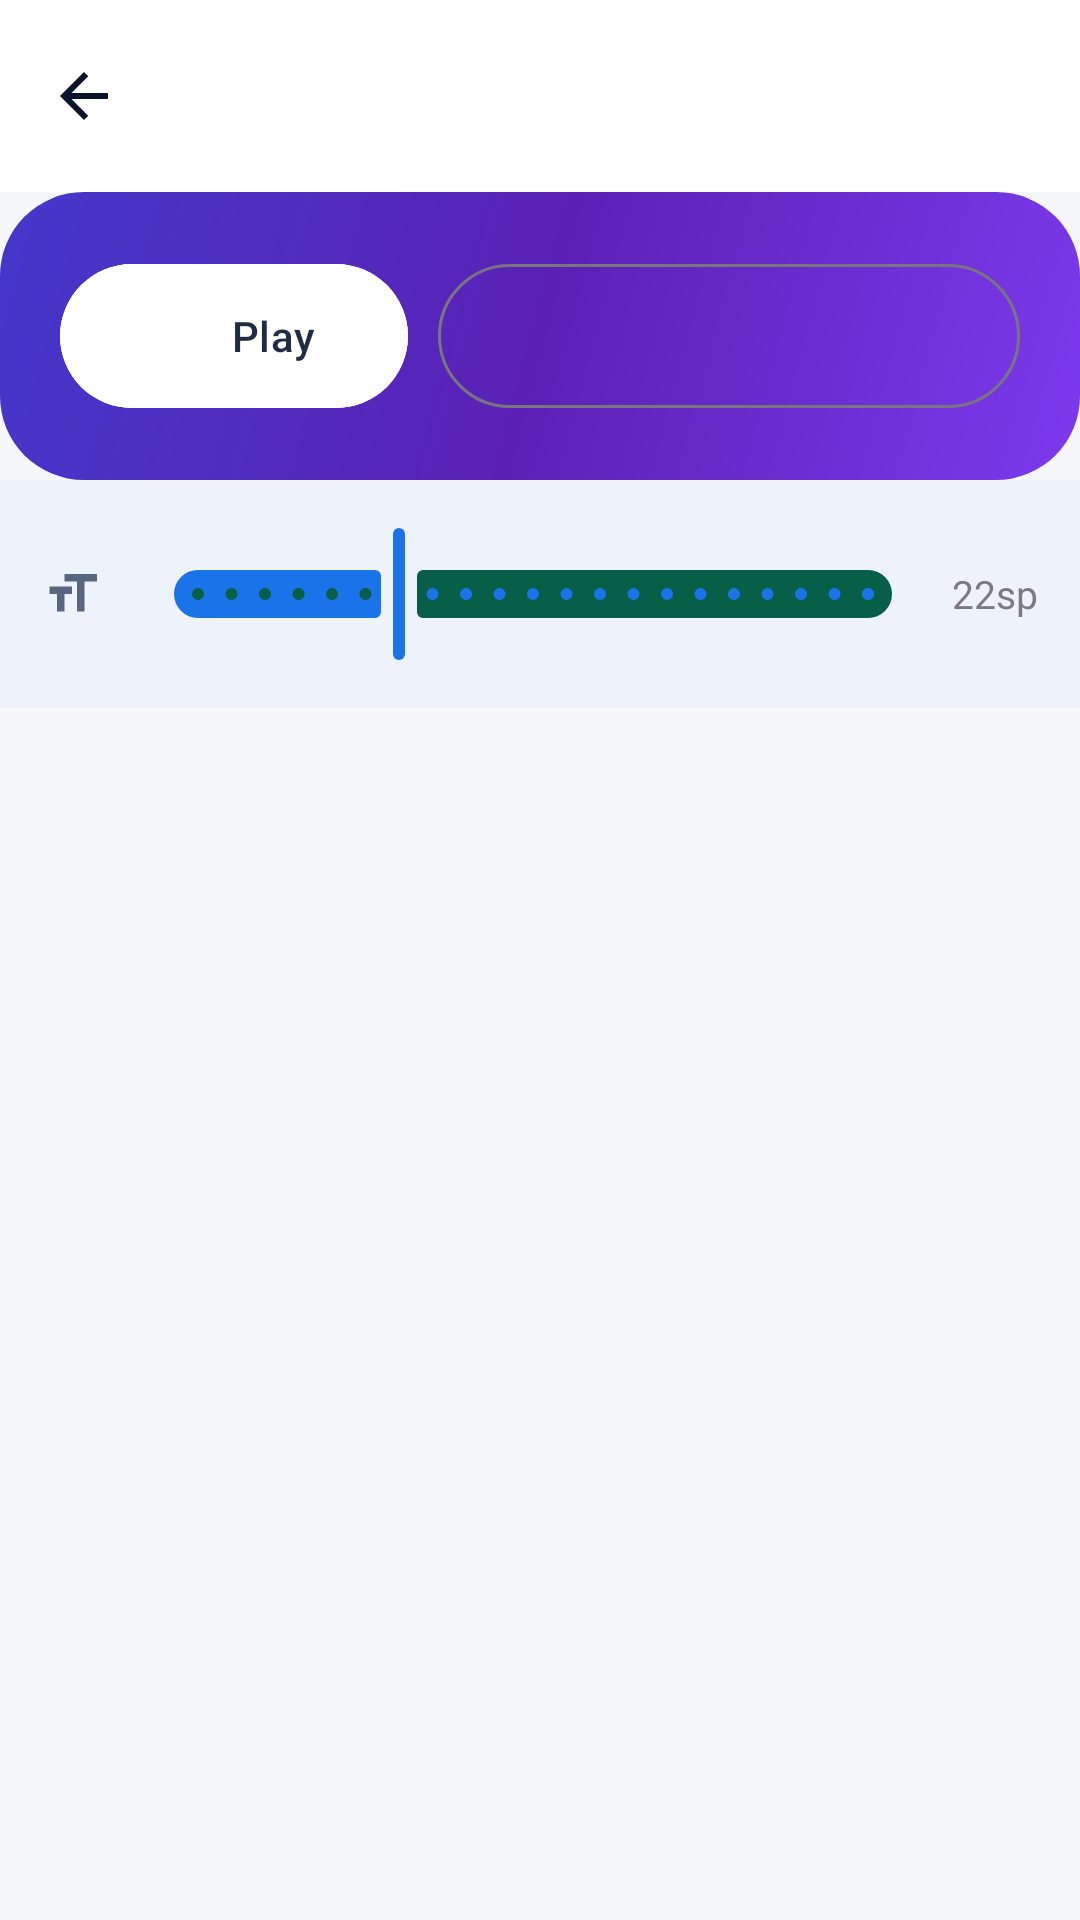

Screen size 1080w x 1920h. Icon name, then its center in pixels as (x,y):
Font size: (73,593)
